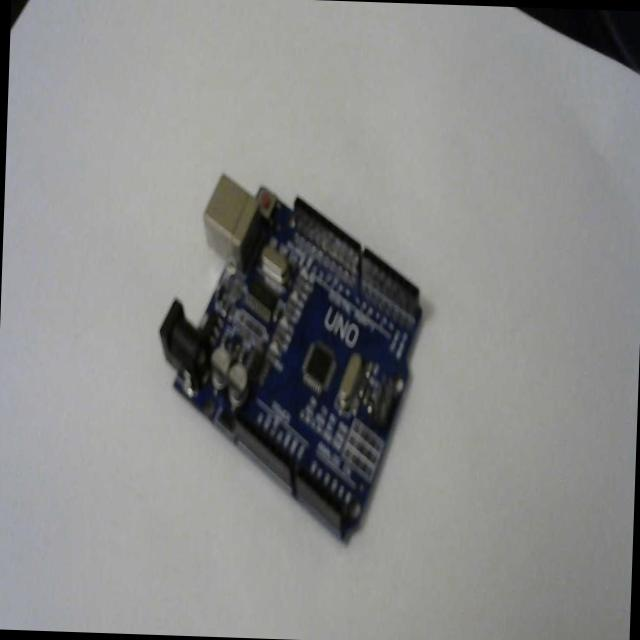arduino: (151, 164, 429, 556)
